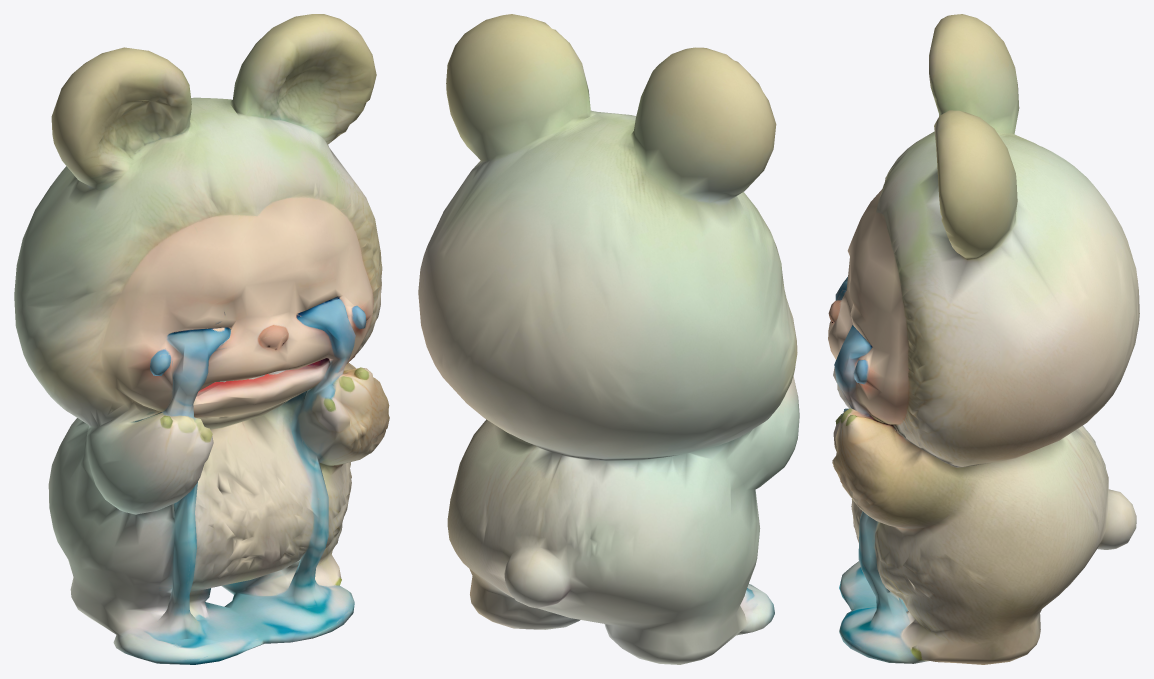
The model's file is 哭哭 LADUDU稀有.fbx.
The picture shows the model from 3 angles, left to right: view 1: azimuth 30°, elevation 25°; view 2: azimuth 150°, elevation 25°; view 3: azimuth 270°, elevation 25°; orthographic projection. The views are drawn at different scales.
Visible parts, largest first — view 1: tripo_node_de1d845d; view 2: tripo_node_de1d845d; view 3: tripo_node_de1d845d.
Boxes of the visible parts, x1,y1,x2,y2 form: tripo_node_de1d845d: [14, 14, 389, 664]; tripo_node_de1d845d: [418, 14, 799, 664]; tripo_node_de1d845d: [828, 14, 1139, 664].
Size of the model in its own units: 0.6175 by 1 by 0.5109.
Materials: 1 (1 with a texture image).
